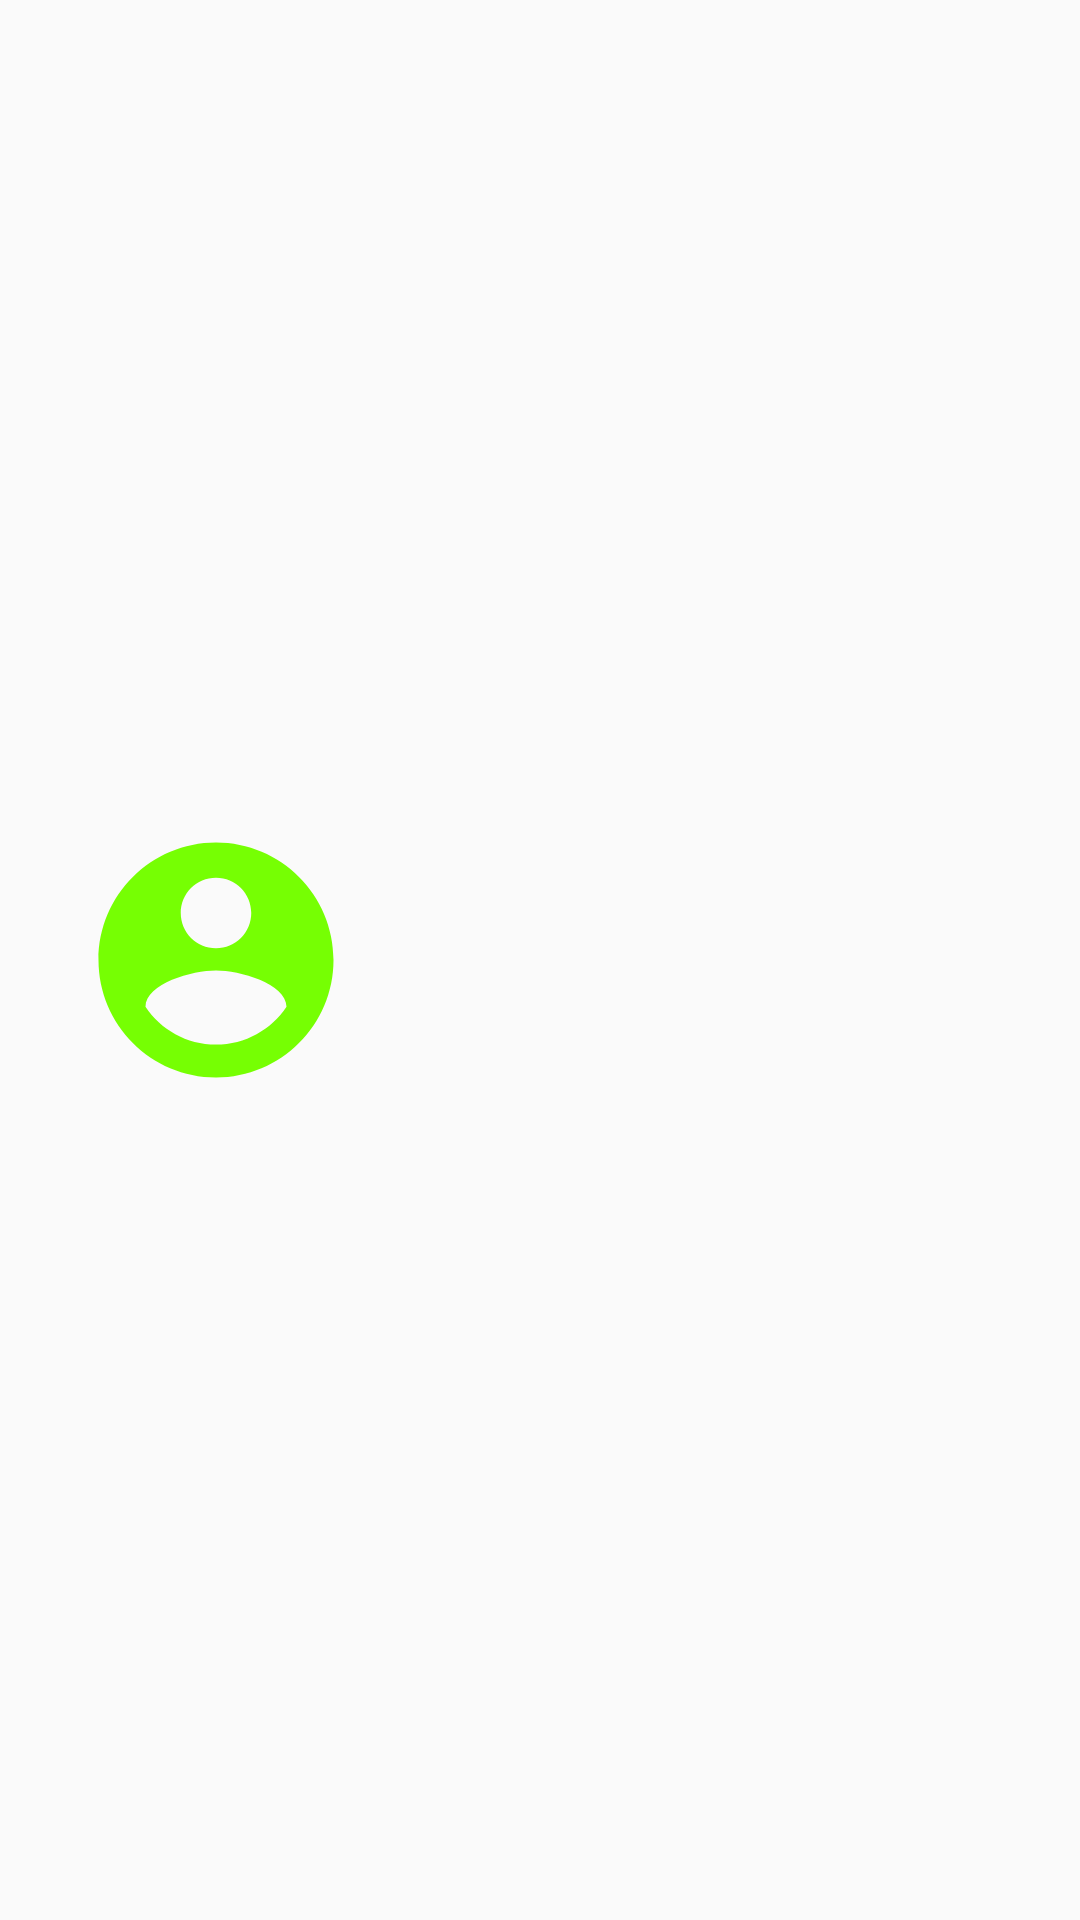

Where icons sit on this 1080*1920 app screen, as (x1, y1, x2, y2):
profile: (98, 842, 334, 1078)
